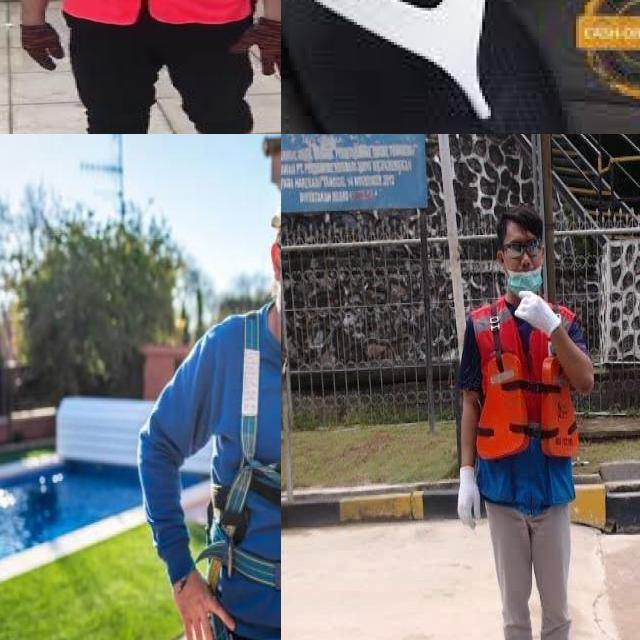Harness: (198, 312, 281, 597)
Sandals: (281, 0, 640, 134)
hand_glove: (229, 19, 281, 79), (16, 22, 64, 72)
person: (433, 197, 616, 640), (0, 0, 281, 134)
vest: (467, 295, 583, 508)
